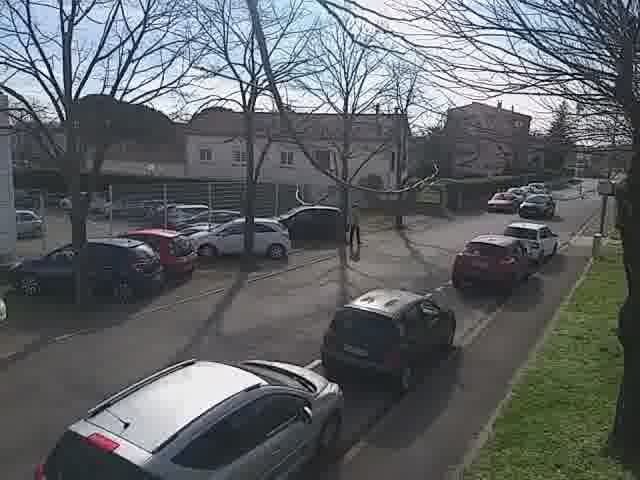persona: (343, 198, 364, 252)
